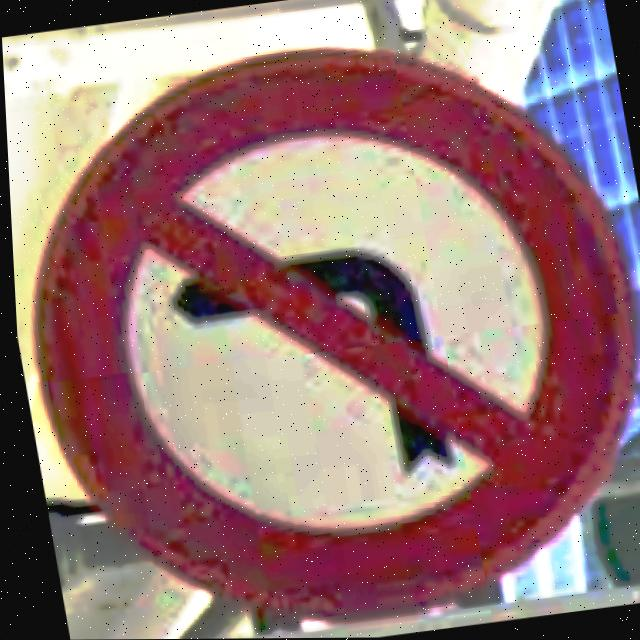noturnleft: (31, 52, 633, 624)
